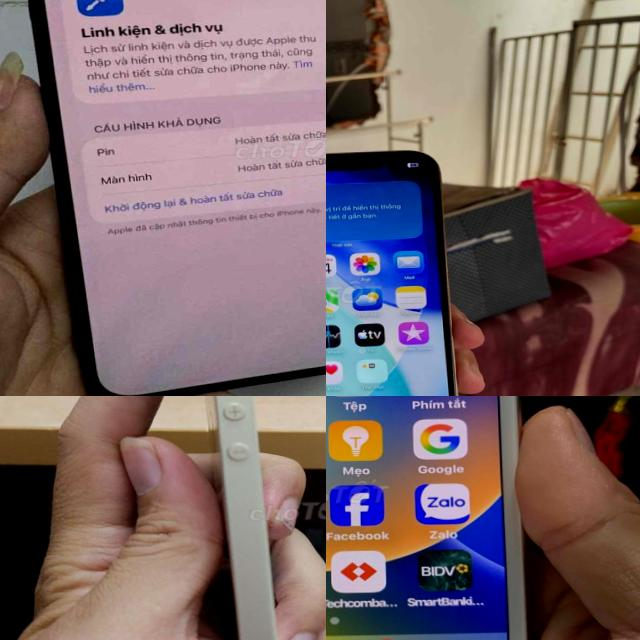gen_12_13: (22, 0, 326, 396), (326, 147, 464, 396)
gen_6: (205, 396, 278, 640)
gen_7_8: (326, 396, 541, 640)
